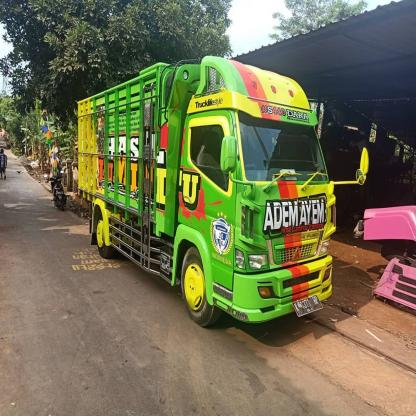truck: (79, 56, 370, 325)
